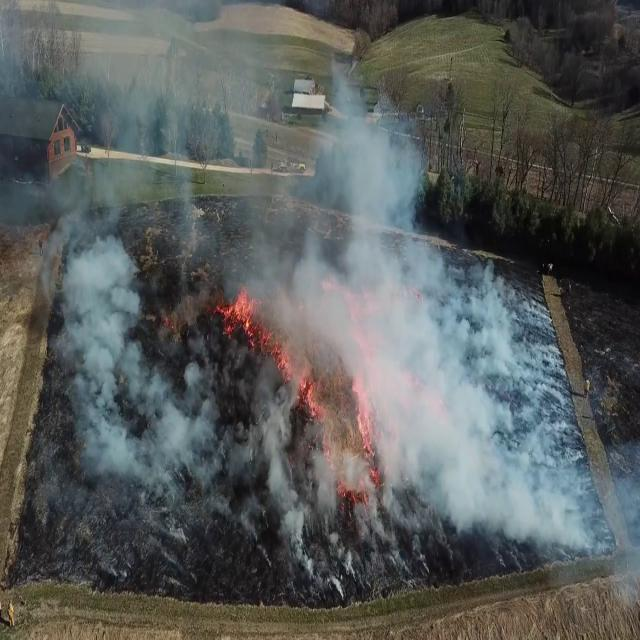Fire: (316, 371, 380, 478)
Smoke: (18, 32, 502, 586)
